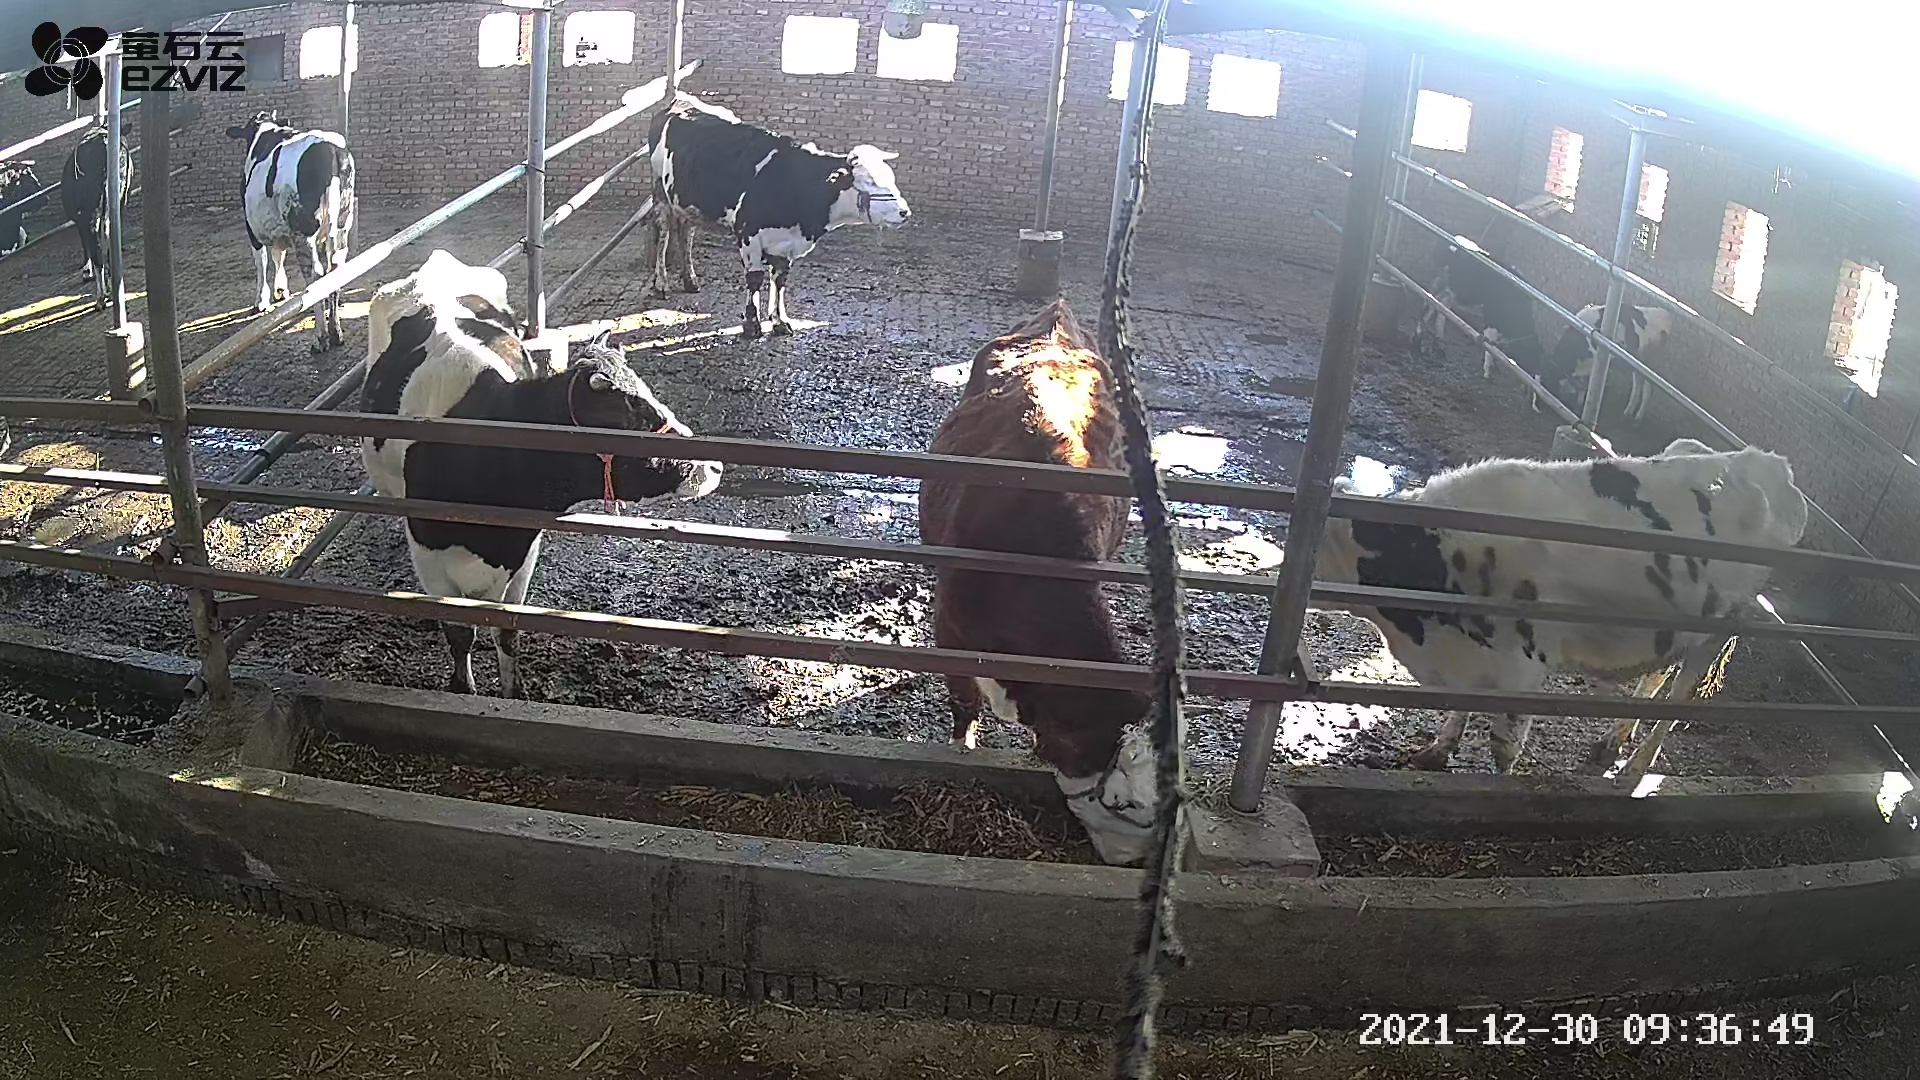cow: (916, 287, 1218, 866), (1305, 436, 1804, 777), (357, 247, 724, 702), (647, 90, 913, 338)
